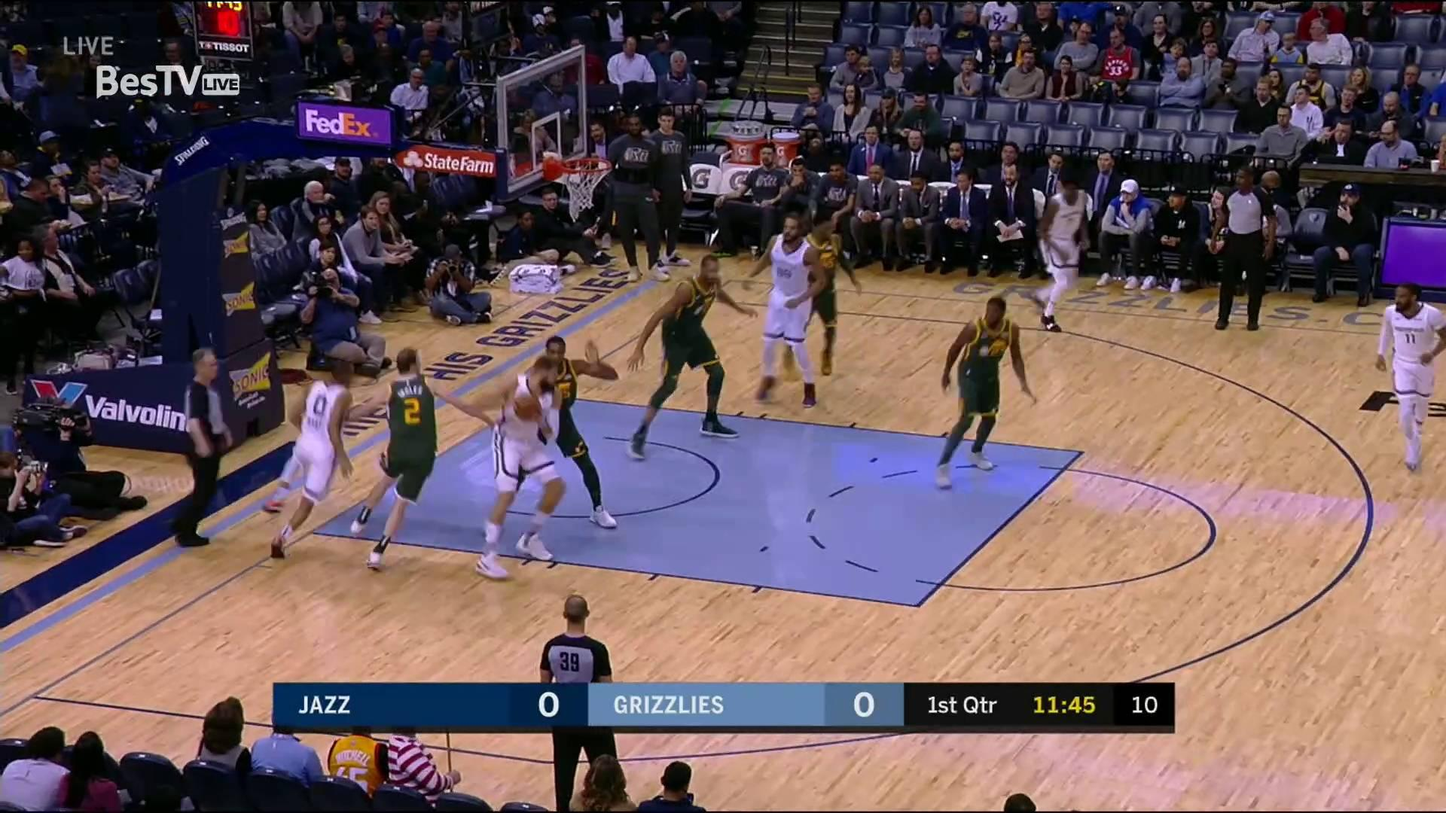basketball: (513, 393, 542, 423)
